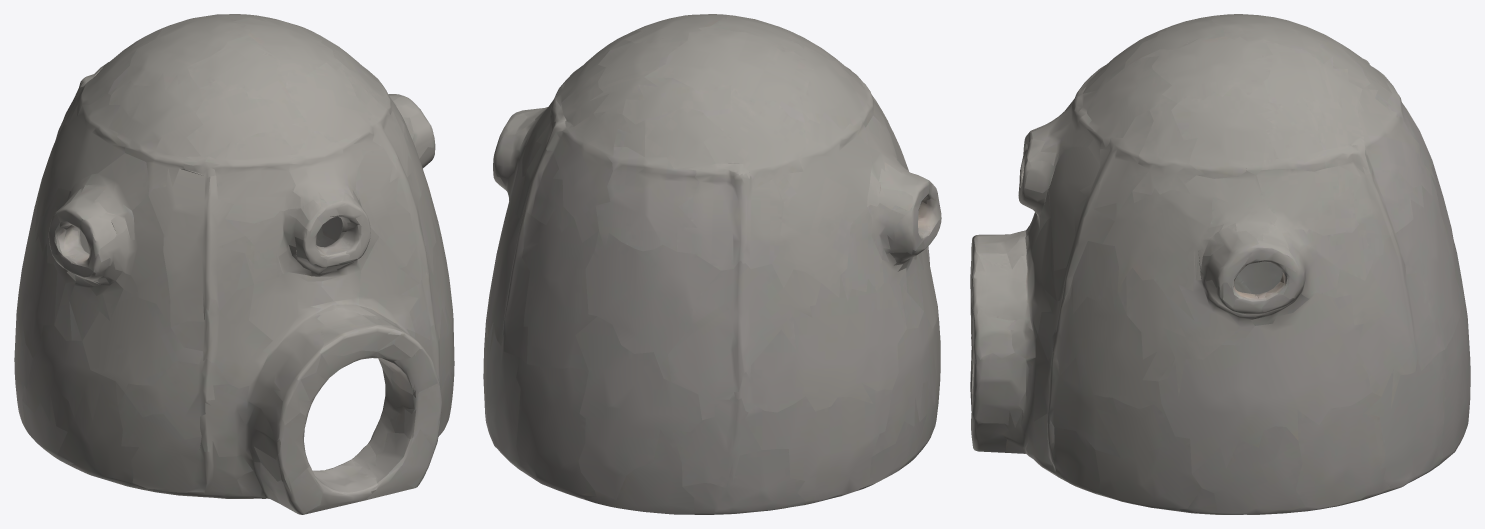
Rendered from yodahut.glb.
3 renders of one model, left to right at view 1: azimuth 30°, elevation 25°; view 2: azimuth 150°, elevation 25°; view 3: azimuth 270°, elevation 25°, orthographic. The views are drawn at different scales.
Visible parts, largest first — view 1: yodahut-centred; view 2: yodahut-centred; view 3: yodahut-centred.
Boxes of the visible parts, <box> form: yodahut-centred: <box>14,14,454,514</box>; yodahut-centred: <box>483,14,941,514</box>; yodahut-centred: <box>970,14,1470,514</box>.
Bounding box in the file's own units: 9.19 × 8.6 × 10.
Materials: 1 (1 with a texture image).
